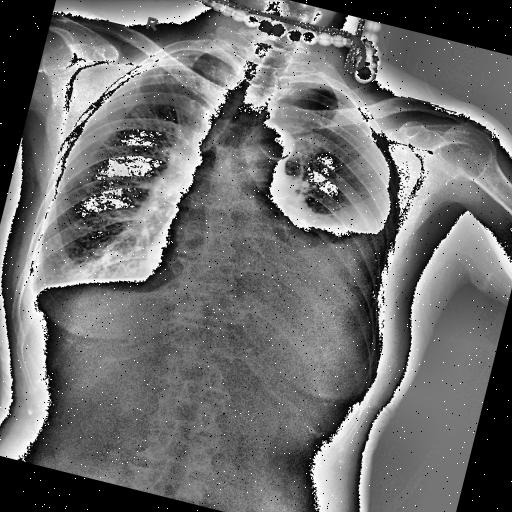0- Aortic enlargement: (240, 122, 300, 182), (252, 125, 300, 170), (249, 122, 298, 161)
10- Pleural effusion: (263, 183, 412, 377), (260, 191, 402, 356), (266, 202, 397, 334), (17, 266, 57, 317), (15, 266, 52, 310), (15, 274, 52, 308)
11- Pleural thickening: (17, 266, 57, 317), (15, 266, 52, 310), (15, 274, 52, 308), (160, 39, 206, 65)
13- Pulmonary fibrosis: (142, 54, 214, 138), (139, 54, 207, 136), (130, 50, 203, 114)
